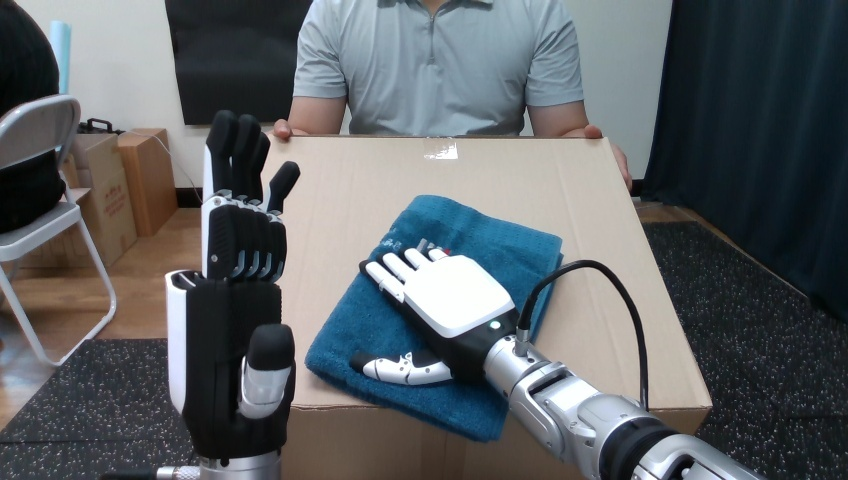left robot hand: (351, 245, 762, 479), (155, 110, 299, 479), (528, 267, 640, 402)
